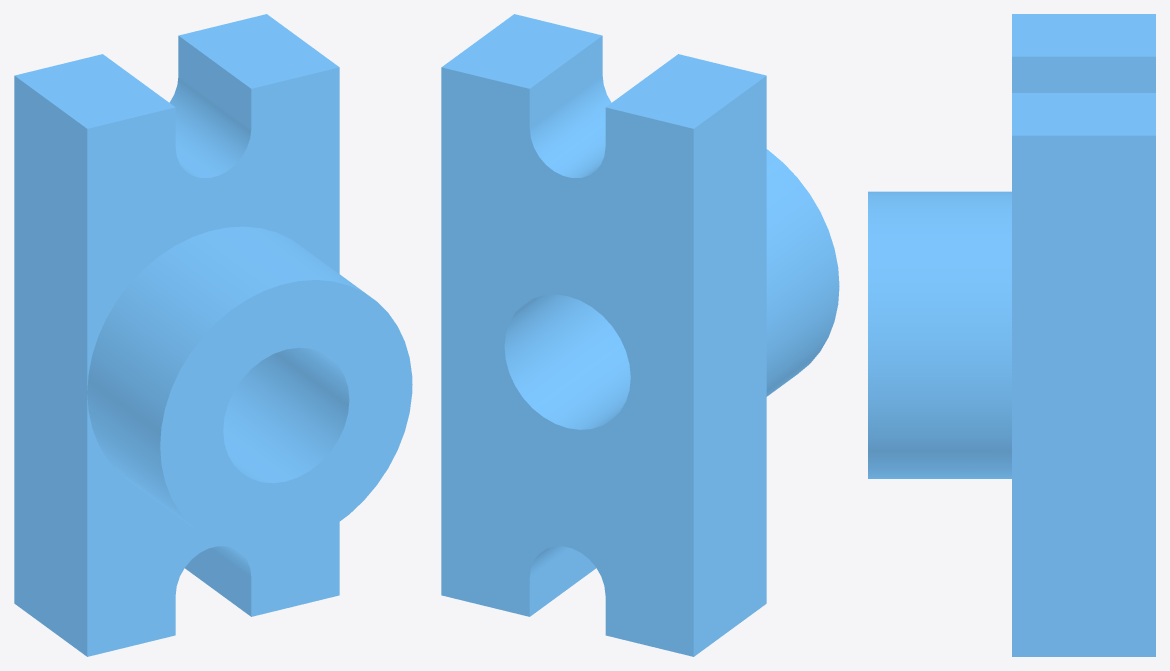
File: model_plain.glb
3 views of the same model, side by side, from view 1: azimuth 30°, elevation 25°; view 2: azimuth 150°, elevation 25°; view 3: azimuth 270°, elevation 25° (orthographic).
Visible parts, largest first — view 1: 测试件.SLDPRT; view 2: 测试件.SLDPRT; view 3: 测试件.SLDPRT.
Part boxes in pixels (x1,y1,x2,y2): 测试件.SLDPRT: (14,14,412,656); 测试件.SLDPRT: (441,14,839,656); 测试件.SLDPRT: (868,14,1155,656).
Size of the model in its own units: 0.01 by 0.02 by 0.01.
